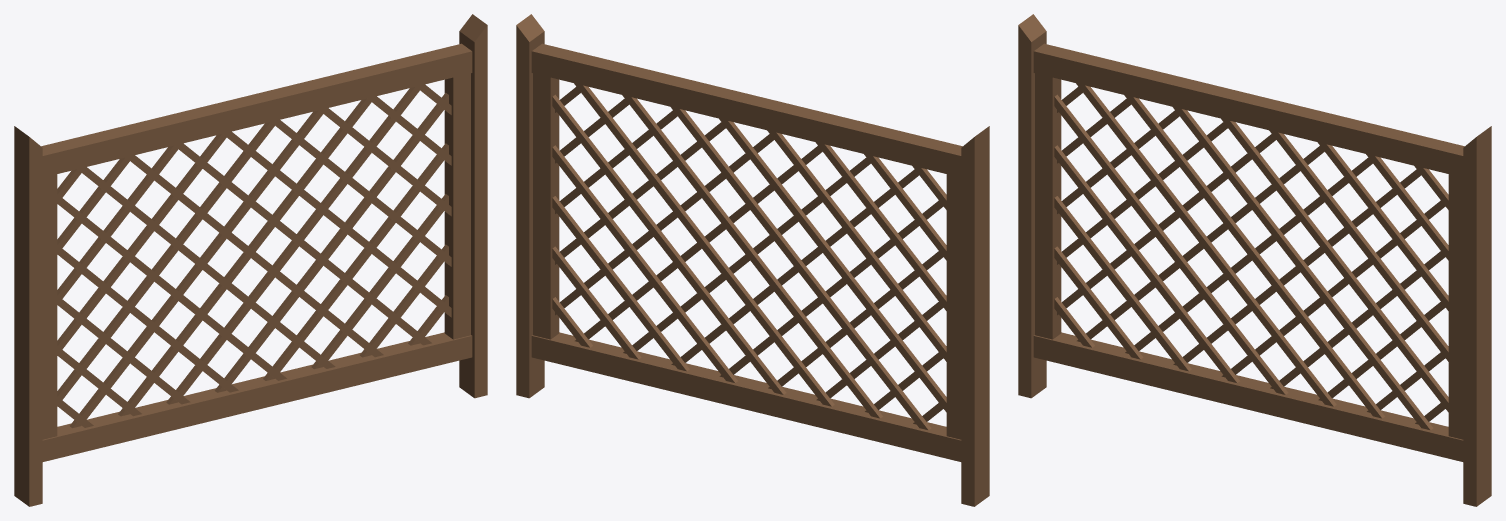
Rendered from rpg-mansion-garden-lattice-fence-bay-01.glb.
3 views of the same model, side by side, from view 1: azimuth 30°, elevation 25°; view 2: azimuth 150°, elevation 25°; view 3: azimuth 330°, elevation 25° (orthographic).
Parts seen in each view (by area): view 1: rpg-mansion-garden-lattice-fence-bay-01; view 2: rpg-mansion-garden-lattice-fence-bay-01; view 3: rpg-mansion-garden-lattice-fence-bay-01.
Boxes of the visible parts, left/top/right/bottom form: rpg-mansion-garden-lattice-fence-bay-01: left=14, top=14, right=487, bottom=506; rpg-mansion-garden-lattice-fence-bay-01: left=516, top=14, right=989, bottom=506; rpg-mansion-garden-lattice-fence-bay-01: left=1018, top=14, right=1491, bottom=506.
Bounding box in the file's own units: 1.82 × 1.4 × 0.104.
